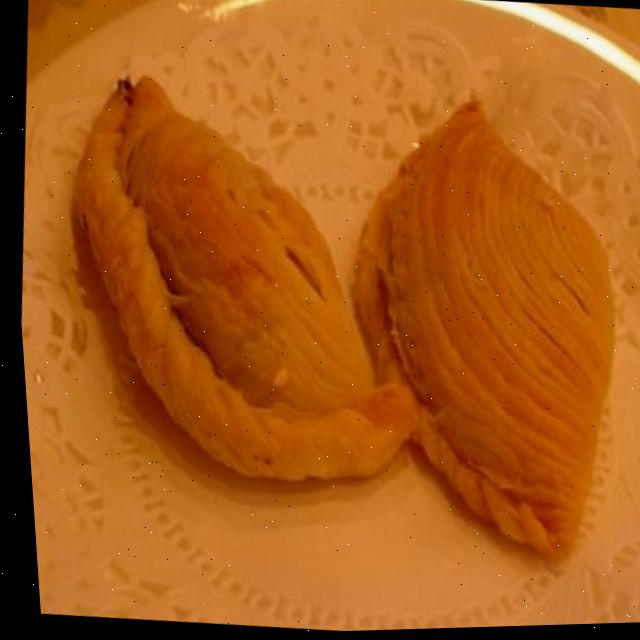炸货点心: (8, 9, 640, 638)
